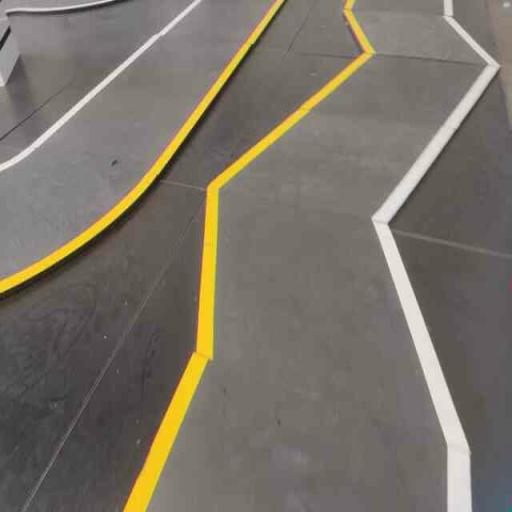crossleft: (185, 181, 491, 457)
